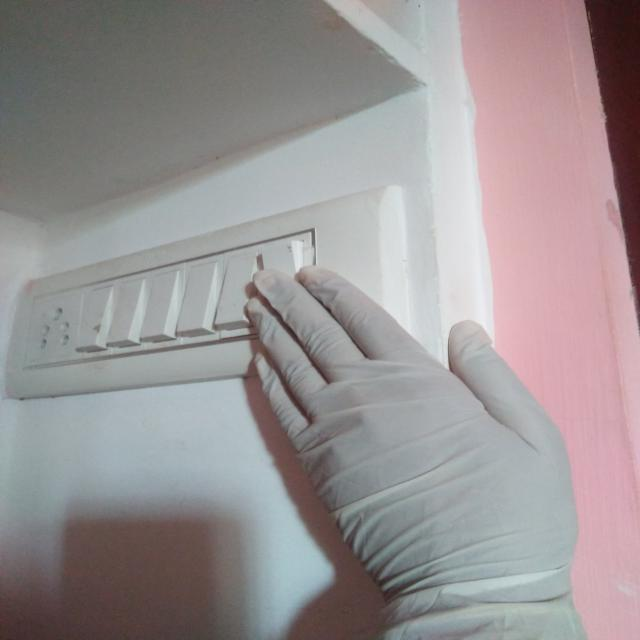gloved_hand: (244, 259, 606, 636)
